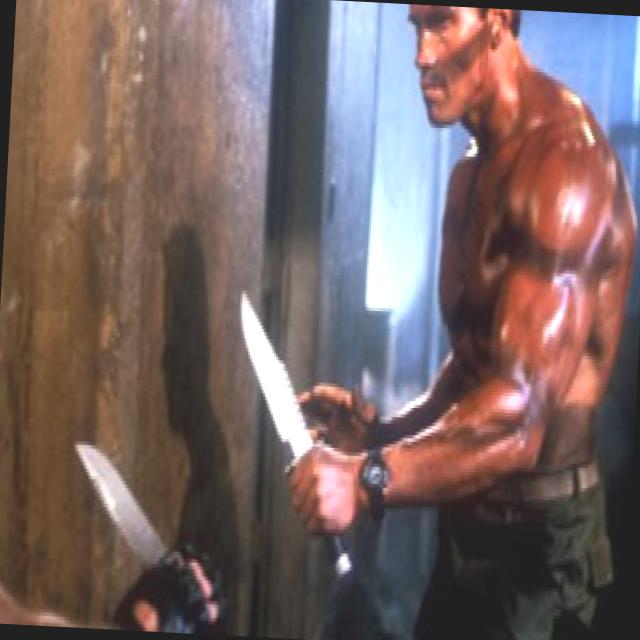knife: (222, 274, 362, 530), (59, 416, 198, 600)
